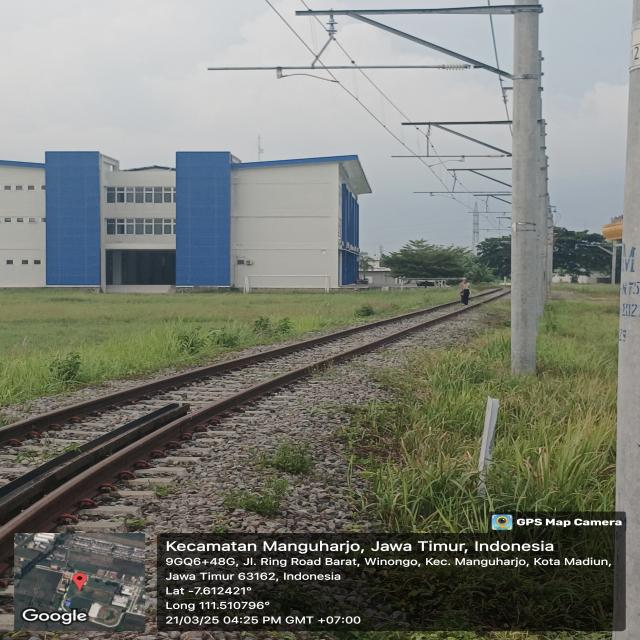rail-detection: (0, 289, 509, 560), (0, 300, 460, 447)
